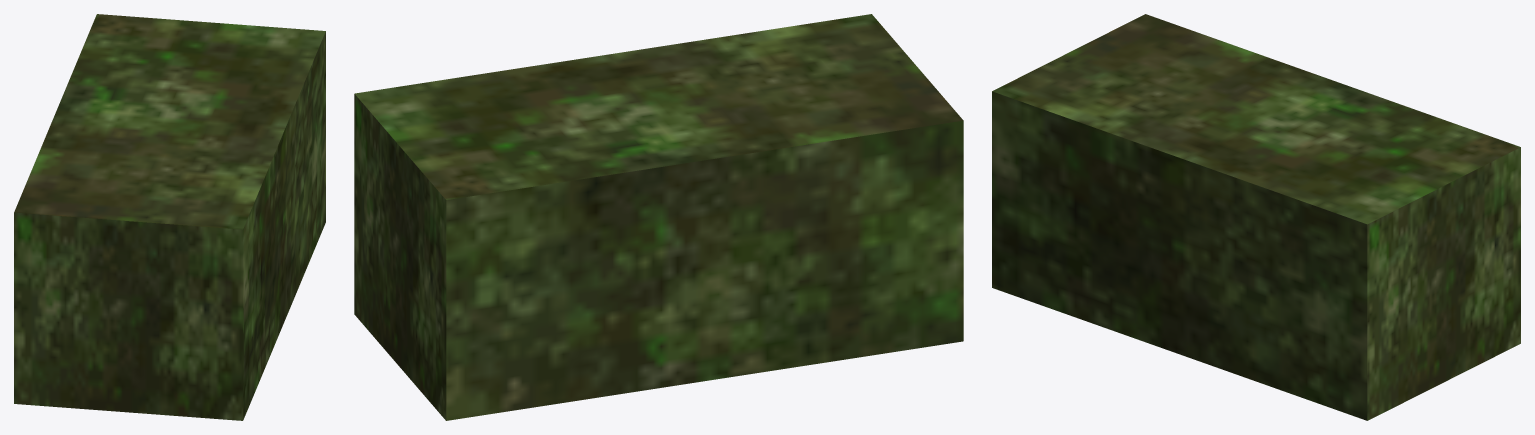
Rendered from OVERHILL_A_01_STONE_BLOCK_32.fbx.
3 renders of one model, left to right at view 1: azimuth 30°, elevation 25°; view 2: azimuth 150°, elevation 25°; view 3: azimuth 270°, elevation 25°, orthographic. The views are drawn at different scales.
Visible parts, largest first — view 1: OVERHILL_A_01_STONE_BLOCK_32; view 2: OVERHILL_A_01_STONE_BLOCK_32; view 3: OVERHILL_A_01_STONE_BLOCK_32.
Boxes of the visible parts, bbox=[...] form: OVERHILL_A_01_STONE_BLOCK_32: bbox=[14, 14, 325, 420]; OVERHILL_A_01_STONE_BLOCK_32: bbox=[354, 14, 963, 420]; OVERHILL_A_01_STONE_BLOCK_32: bbox=[992, 14, 1520, 420].
Size of the model in its own units: 16496 by 7183 by 17521.
Materials: 1 (1 with a texture image).
